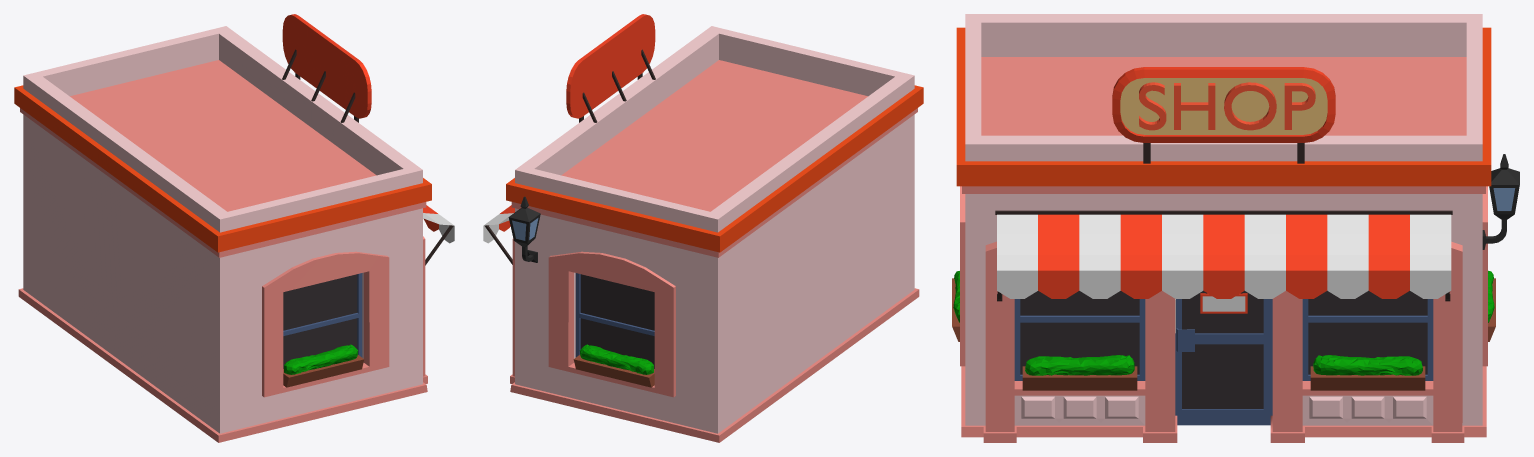
File: shop (1x1).fbx
3 views of the same model, side by side, from view 1: azimuth 30°, elevation 25°; view 2: azimuth 150°, elevation 25°; view 3: azimuth 270°, elevation 25° (orthographic). The views are drawn at different scales.
Parts seen in each view (by area): view 1: ShopBuilding; view 2: ShopBuilding; view 3: ShopBuilding.
Boxes of the visible parts, x1=… form: ShopBuilding: x1=14, y1=14, x2=454, y2=442; ShopBuilding: x1=483, y1=14, x2=923, y2=442; ShopBuilding: x1=952, y1=14, x2=1519, y2=442.
Bounding box in the file's own units: 112 × 119 × 166.
